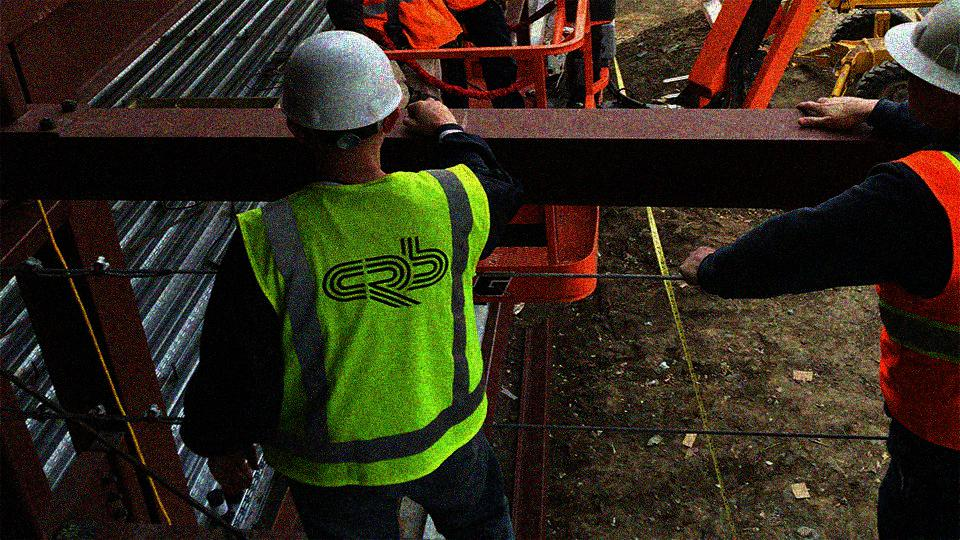helmet: (281, 30, 410, 176), (883, 2, 960, 145)
